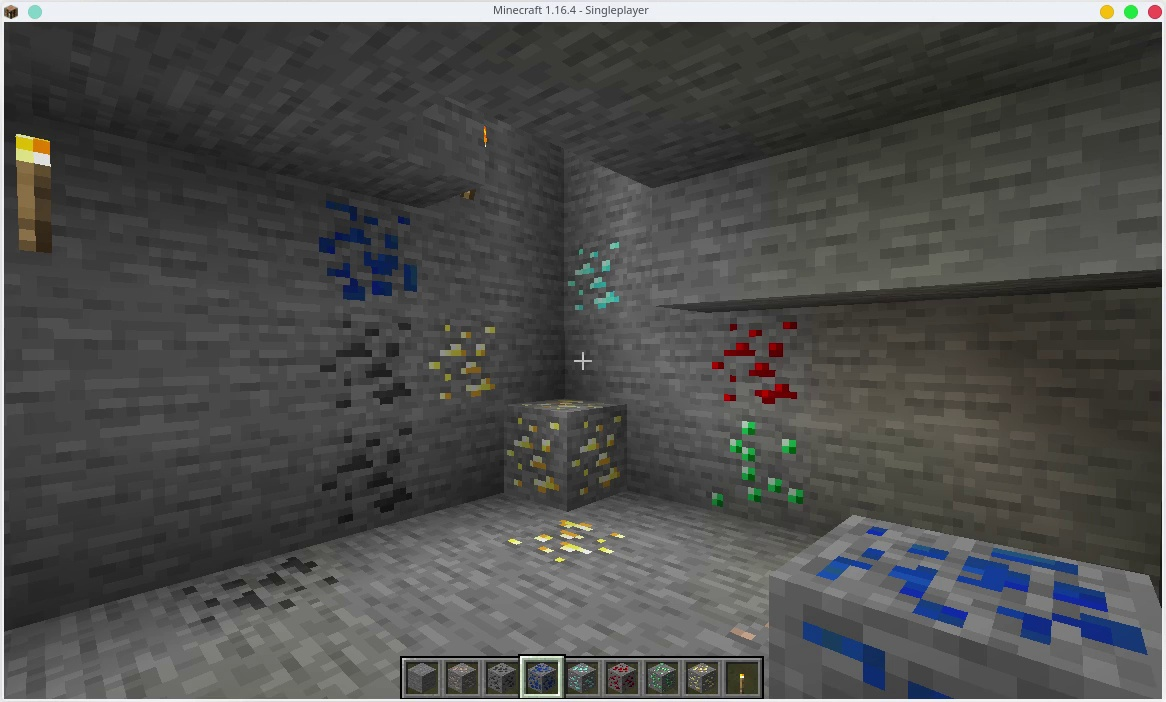gold: (500, 400, 638, 514), (496, 517, 639, 573), (423, 317, 498, 403), (686, 662, 718, 695)
